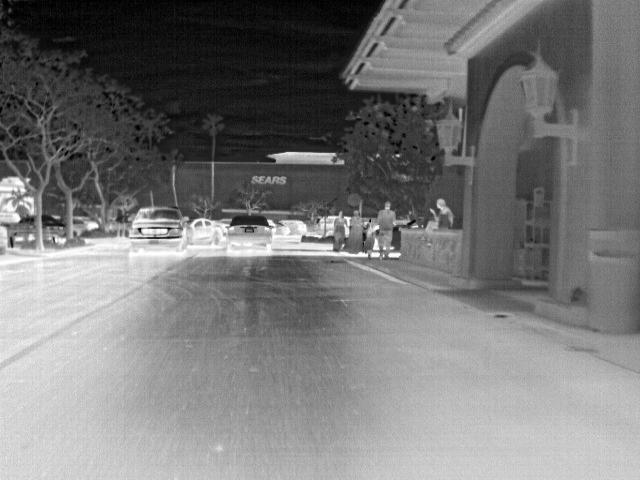car: (128, 204, 188, 252), (228, 213, 272, 254), (189, 216, 226, 246), (9, 214, 33, 240), (43, 214, 63, 235), (265, 218, 287, 237), (73, 216, 97, 232), (315, 214, 331, 235), (288, 220, 304, 236), (217, 218, 231, 232)
person: (418, 198, 455, 246), (378, 200, 395, 260), (348, 208, 362, 255), (333, 210, 347, 251), (362, 222, 375, 262)
